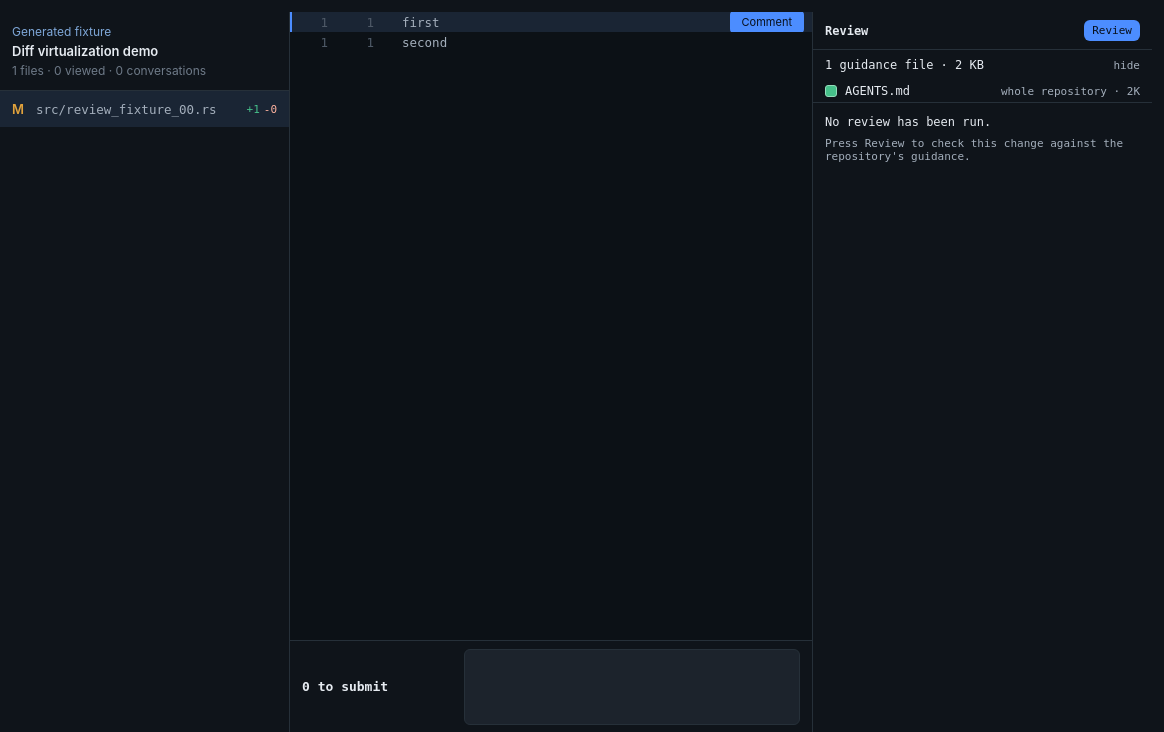
Test case: the review panel in a Session › opens and closes the guidance section on the summary line
Check: the button "Review" is shown, box [1084,20,1140,41]
What coordinates should you click on to do the following:
click the button "1 guidance file · 2 KB hide"
I would click on:
 (982, 65)
Its box is [813,50,1152,80].
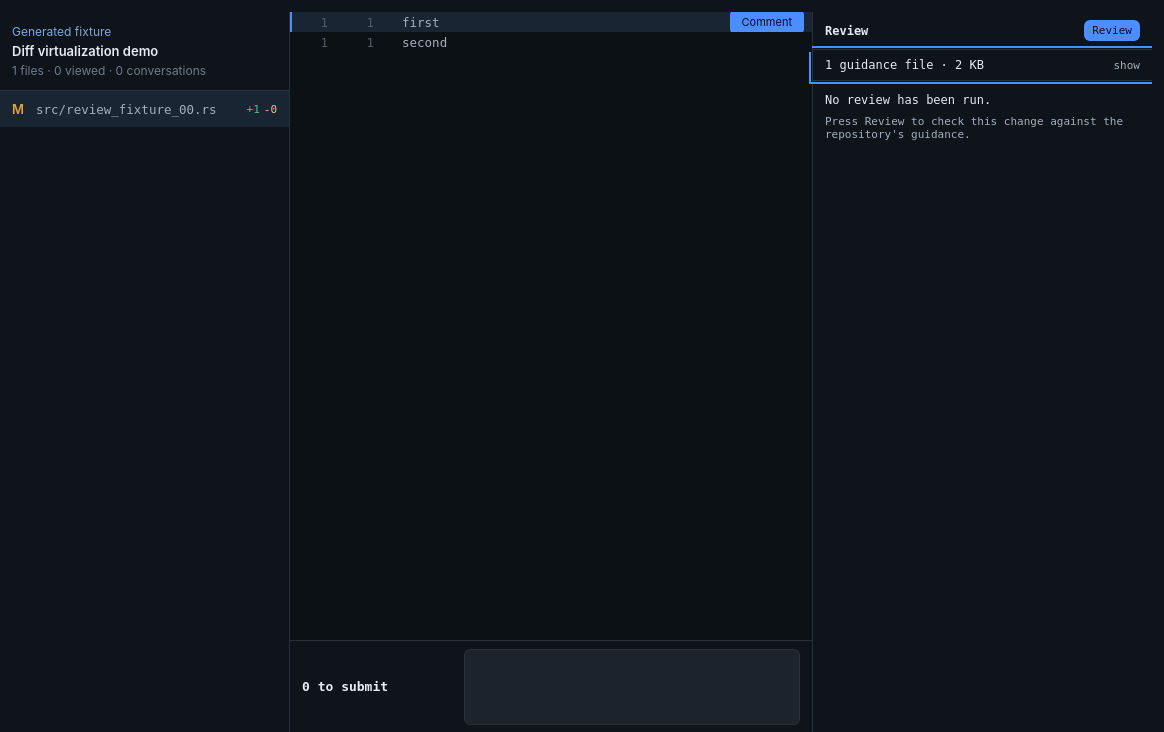
Check: the text "1 guidance file · 2 KB" is shown, box [825,58,984,72]
Check: the button "AGENTS.md" is gone
